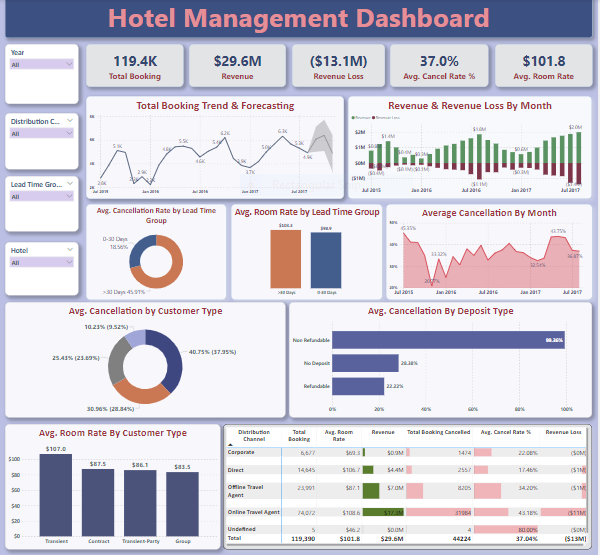

Layout of this report page (visuals, bound fields, positions):
{"tool":"powerbi","page":{"name":"Hotel Data Dashboard","canvas":[2000,1870],"ordinal":0},"visuals":[{"type":"textbox","box":[22.5,0,1957.5,140],"z":0},{"type":"card","title":"Total Booking","fields":{"Values":["_Measure.Total Booking"]},"box":[292.5,160,325,142.5],"z":1000},{"type":"card","title":"Total Booking","fields":{"Values":["_Measure.Revenue"]},"box":[637.5,160,322.5,142.5],"z":2000},{"type":"card","title":"Total Booking","fields":{"Values":["_Measure.Revenue Loss"]},"box":[980,160,310,142.5],"z":3000},{"type":"card","title":"Total Booking","fields":{"Values":["_Measure.Avg. Room Rate"]},"box":[1655,160,325,142.5],"z":4000},{"type":"lineChart","title":"Total Booking Trend & Forecasting","fields":{"Category":["Data.Start of Month"],"Y":["_Measure.Total Booking"]},"box":[292.5,332.5,860,342.5],"z":5000},{"type":"clusteredColumnChart","title":"Revenue & Revenue Loss By Month","fields":{"Category":["Data.Start of Month"],"Y":["_Measure.Revenue","_Measure.Revenue Loss"]},"box":[1167.5,332.5,812.5,342.5],"z":6000},{"type":"donutChart","title":"Avg. Cancellation Rate by Lead Time Group","fields":{"Y":["_Measure.Avg. Cancel Rate %"],"Category":["Data.Lead Time Group"]},"box":[292.5,692.5,467.5,320],"z":7000},{"type":"clusteredColumnChart","title":"Avg. Room Rate by Lead Time Group","fields":{"Category":["Data.Lead Time Group"],"Y":["_Measure.Avg. Room Rate"]},"box":[775,692.5,505,320],"z":8000},{"type":"pivotTable","fields":{"Rows":["Data.Distribution Channel"],"Values":["_Measure.Total Booking","_Measure.Avg. Room Rate","_Measure.Revenue","Data.Total Booking Cancelled","_Measure.Avg. Cancel Rate %","_Measure.Revenue Loss"]},"box":[722.4,1425.3,1230.5,417.2],"z":9000},{"type":"slicer","fields":{"Values":["Data.Year"]},"box":[22.5,160,245,200],"z":10000},{"type":"slicer","fields":{"Values":["Data.Distribution Channel"]},"box":[22.5,390,245,187.5],"z":11000},{"type":"slicer","fields":{"Values":["Data.Lead Time Group"]},"box":[22.5,600,245,185],"z":12000},{"type":"card","title":"Total Booking","fields":{"Values":["_Measure.Avg. Cancel Rate %"]},"box":[1307.5,160,327.5,142.5],"z":13000},{"type":"donutChart","title":"Avg. Cancellation by Customer Type","fields":{"Category":["Data.Customer Type"],"Y":["_Measure.Avg. Cancel Rate %"]},"box":[22.5,1020,935,385],"z":14000},{"type":"areaChart","title":"Average Cancellation By Month","fields":{"Category":["Data.Start of Month"],"Y":["_Measure.Avg. Cancel Rate %"]},"box":[1292.5,692.5,687.5,320],"z":15000},{"type":"clusteredBarChart","title":"Avg. Cancellation By Deposit Type","fields":{"Category":["Data.Deposit Type"],"Y":["_Measure.Avg. Cancel Rate %"]},"box":[970.8,1019.5,1009.7,384.7],"z":16000},{"type":"clusteredColumnChart","title":"Avg. Room Rate By Customer Type","fields":{"Category":["Data.Customer Type"],"Y":["_Measure.Avg. Room Rate"]},"box":[22.7,1425.3,688.3,417.2],"z":17000},{"type":"slicer","fields":{"Values":["Data.Hotel"]},"box":[22.5,820,245,177.5],"z":18000}]}

Visuals, with their boxes in screenshot pixels (x1, y1, x2, y2), scaled from the page's 2000x1870 canvas onto the 600x555 screenshot:
textbox: Rect(7, 0, 594, 42)
"Total Booking" card: Rect(88, 47, 185, 90)
"Total Booking" card: Rect(191, 47, 288, 90)
"Total Booking" card: Rect(294, 47, 387, 90)
"Total Booking" card: Rect(496, 47, 594, 90)
"Total Booking Trend & Forecasting" lineChart: Rect(88, 99, 346, 200)
"Revenue & Revenue Loss By Month" clusteredColumnChart: Rect(350, 99, 594, 200)
"Avg. Cancellation Rate by Lead Time Group" donutChart: Rect(88, 206, 228, 301)
"Avg. Room Rate by Lead Time Group" clusteredColumnChart: Rect(232, 206, 384, 301)
pivotTable - Data.Distribution Channel x _Measure.Total Booking: Rect(217, 423, 586, 547)
slicer - Data.Year: Rect(7, 47, 80, 107)
slicer - Data.Distribution Channel: Rect(7, 116, 80, 171)
slicer - Data.Lead Time Group: Rect(7, 178, 80, 233)
"Total Booking" card: Rect(392, 47, 490, 90)
"Avg. Cancellation by Customer Type" donutChart: Rect(7, 303, 287, 417)
"Average Cancellation By Month" areaChart: Rect(388, 206, 594, 301)
"Avg. Cancellation By Deposit Type" clusteredBarChart: Rect(291, 303, 594, 417)
"Avg. Room Rate By Customer Type" clusteredColumnChart: Rect(7, 423, 213, 547)
slicer - Data.Hotel: Rect(7, 243, 80, 296)
